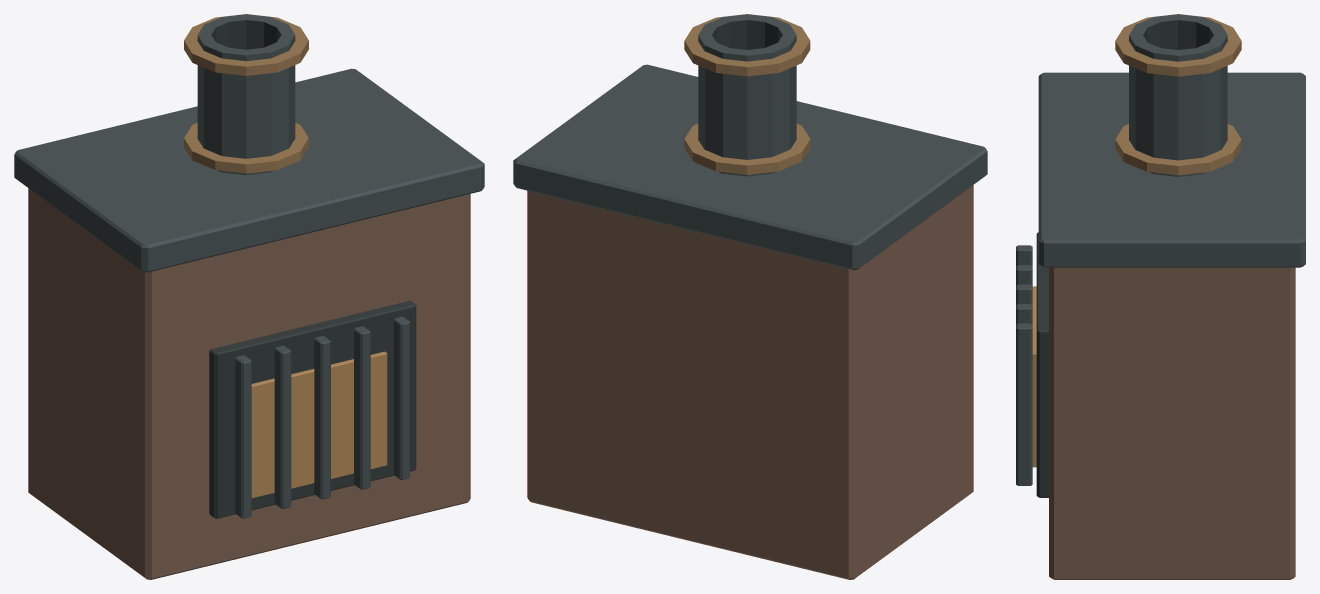
The model's file is furnace.glb.
3 renders of one model, left to right at view 1: azimuth 30°, elevation 25°; view 2: azimuth 150°, elevation 25°; view 3: azimuth 270°, elevation 25°, orthographic.
Parts seen in each view (by area): view 1: furnace__body; view 2: furnace__body; view 3: furnace__body.
Boxes of the visible parts, x1=… form: furnace__body: x1=14, y1=14, x2=484, y2=579; furnace__body: x1=513, y1=14, x2=987, y2=579; furnace__body: x1=1016, y1=14, x2=1305, y2=579.
Size of the model in its own units: 1.95 by 2.5 by 1.41.
